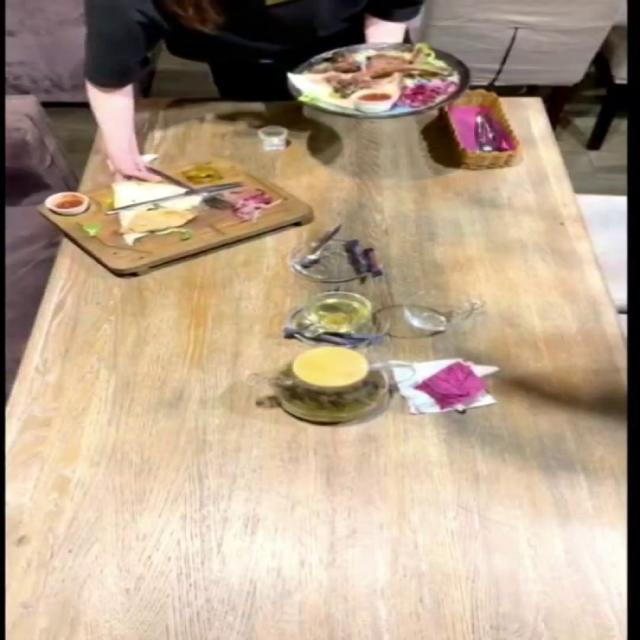meat: (280, 37, 510, 134)
tea: (241, 357, 467, 424)
